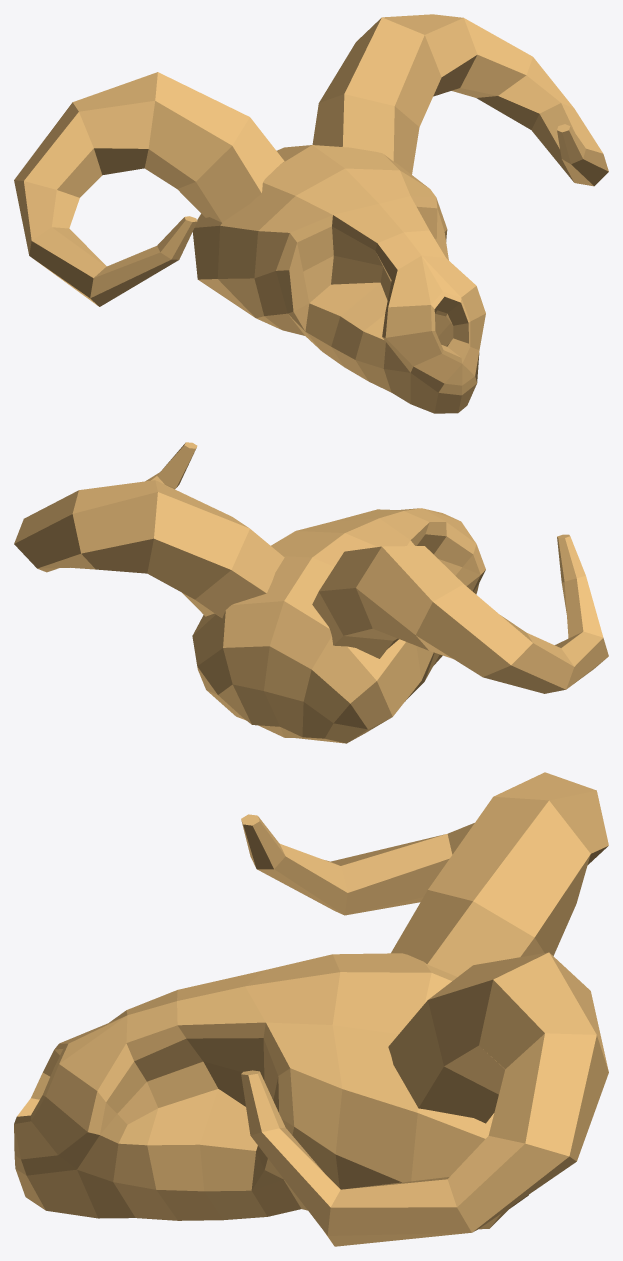
The model's file is Skull_05.fbx.
The picture shows the model from 3 angles, top to bottom: view 1: azimuth 30°, elevation 25°; view 2: azimuth 150°, elevation 25°; view 3: azimuth 270°, elevation 25°; orthographic projection. The views are drawn at different scales.
Visible parts, largest first — view 1: Skull_05; view 2: Skull_05; view 3: Skull_05.
Part boxes in pixels (bbox=[...]): Skull_05: bbox=[14, 14, 608, 413]; Skull_05: bbox=[14, 442, 608, 743]; Skull_05: bbox=[14, 772, 608, 1246].
Bounding box in the file's own units: 115 × 48.3 × 78.23.
